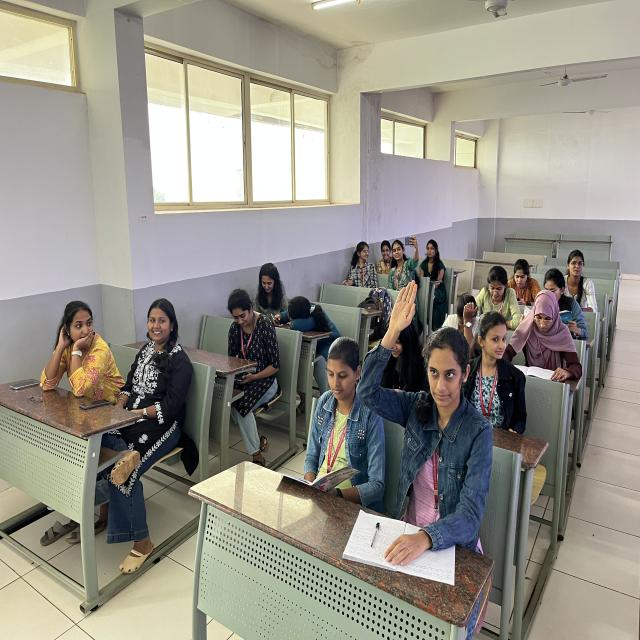Hand Rising: (358, 266, 486, 568)
Reading: (286, 326, 386, 512), (507, 286, 589, 393), (538, 268, 592, 342)
Sleeping: (282, 295, 338, 349)
Using Phone: (223, 286, 280, 401), (386, 232, 420, 285), (507, 256, 537, 303)
Writing: (470, 265, 522, 327), (254, 259, 288, 314)
